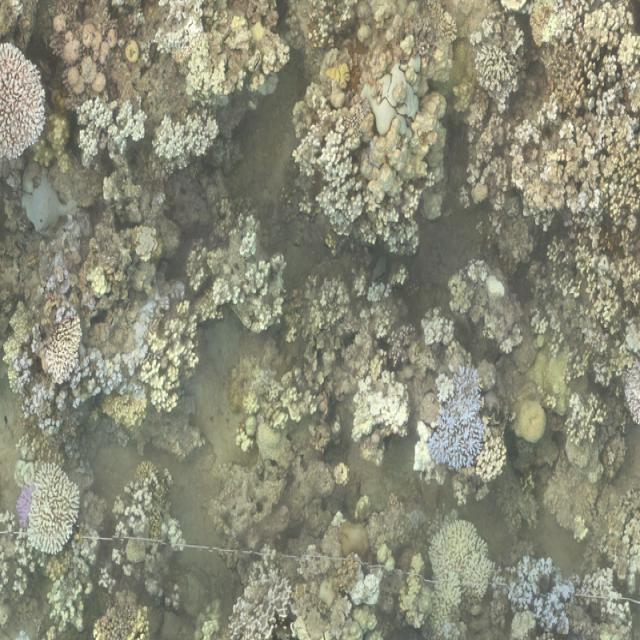Bleached Coral: (20, 300, 129, 416), (300, 99, 358, 243), (21, 443, 80, 566), (152, 0, 228, 89), (513, 557, 577, 640), (352, 362, 412, 450), (79, 91, 148, 166), (230, 557, 291, 640), (150, 110, 228, 172), (367, 66, 427, 140), (418, 299, 460, 352), (622, 352, 640, 435)
